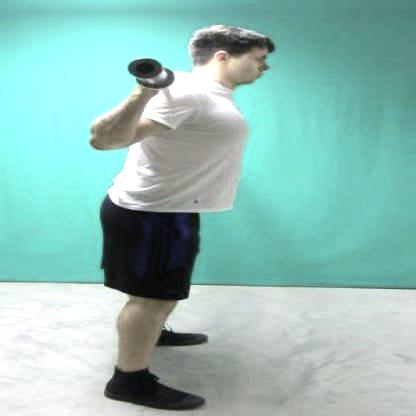Barbell: (115, 54, 165, 82)
